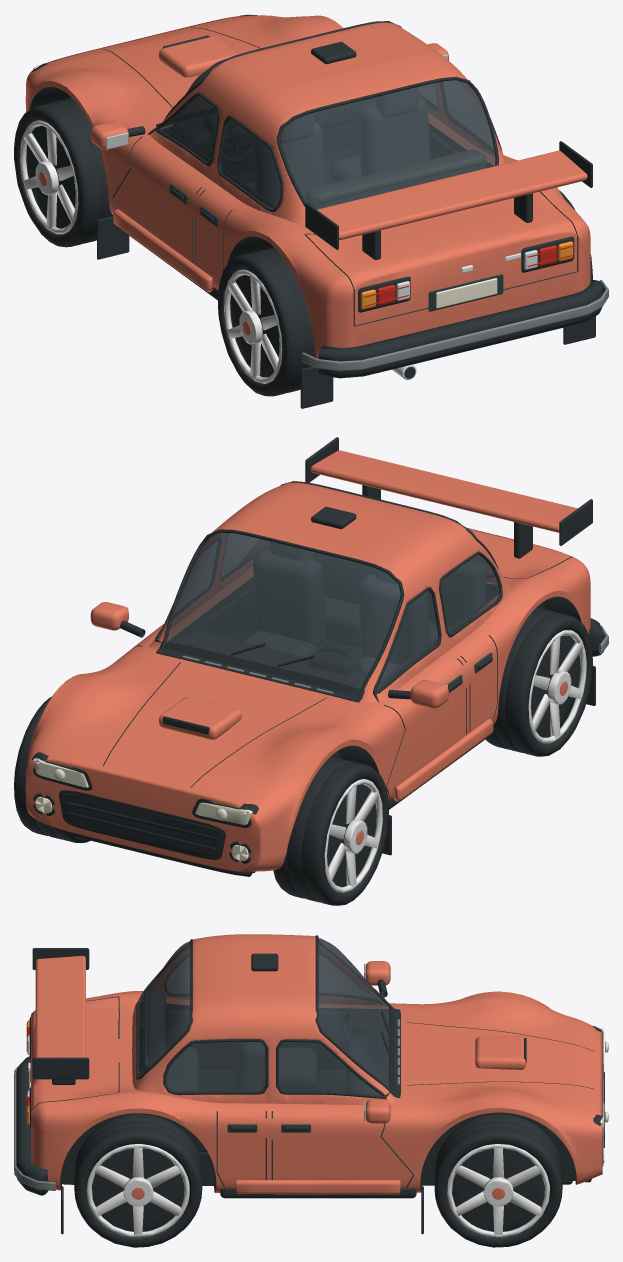
The model's file is kumo_lod1.fbx.
3 views of the same model, one above another, from view 1: azimuth 30°, elevation 25°; view 2: azimuth 150°, elevation 25°; view 3: azimuth 270°, elevation 25° (orthographic). The views are drawn at different scales.
Parts seen in each view (by area): view 1: Body, Wheel_RL_Mesh, Wheel_FL_Mesh; view 2: Body, Wheel_FL_Mesh, Wheel_RL_Mesh, Wheel_FR_Mesh; view 3: Body, Wheel_FR_Mesh, Wheel_RR_Mesh.
Part boxes in pixels (x1,y1,x2,y2): Body: (25, 14, 608, 408); Wheel_RL_Mesh: (218, 247, 316, 396); Wheel_FL_Mesh: (14, 97, 113, 247); Body: (25, 437, 608, 876); Wheel_FL_Mesh: (273, 756, 388, 905); Wheel_RL_Mesh: (485, 607, 592, 756); Wheel_FR_Mesh: (14, 696, 90, 842); Body: (14, 934, 608, 1234); Wheel_FR_Mesh: (434, 1113, 562, 1247); Wheel_RR_Mesh: (74, 1113, 202, 1247).
Bounding box in the file's own units: 239 × 166 × 400.
